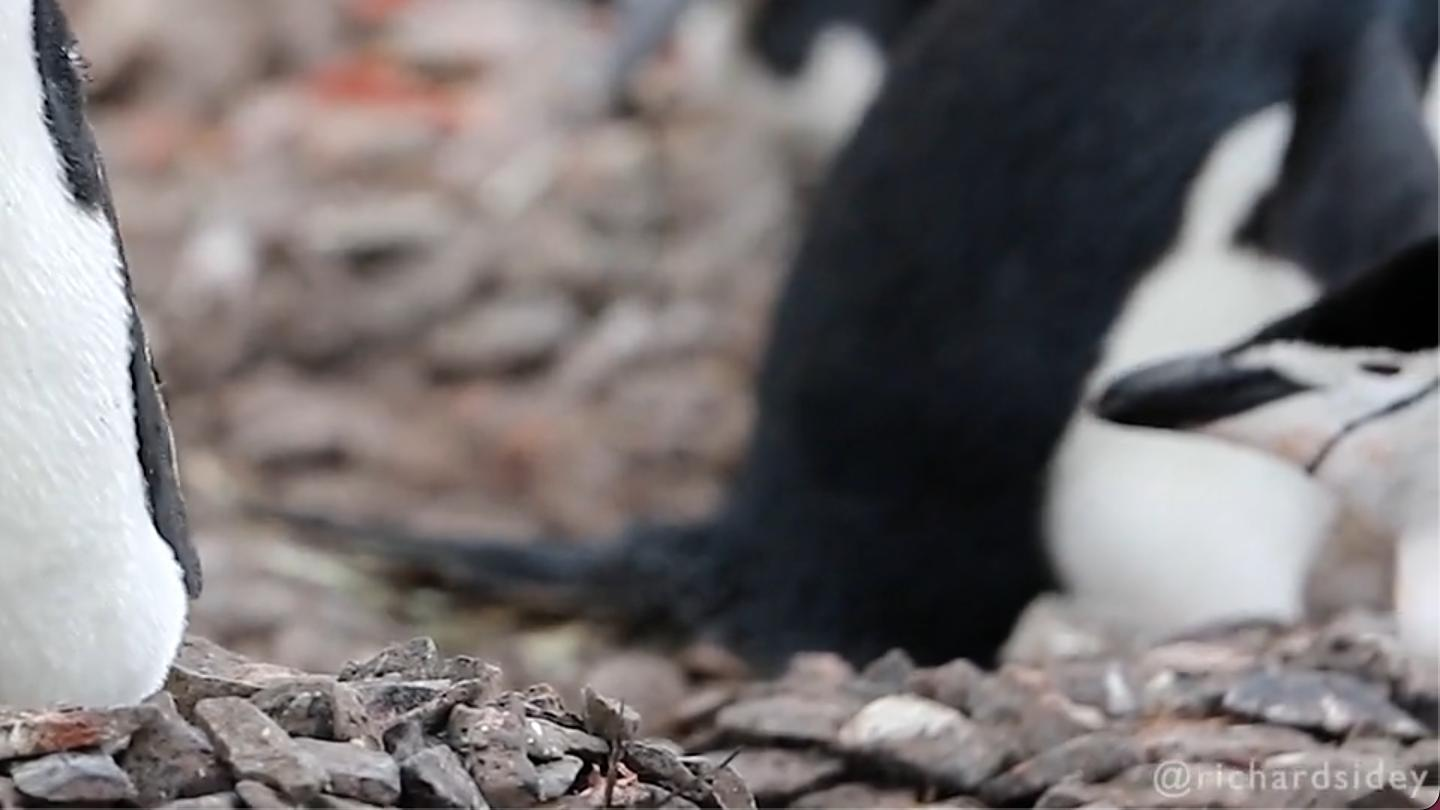Chinstrap Penguin: (0, 0, 195, 809), (1083, 216, 1440, 599)
